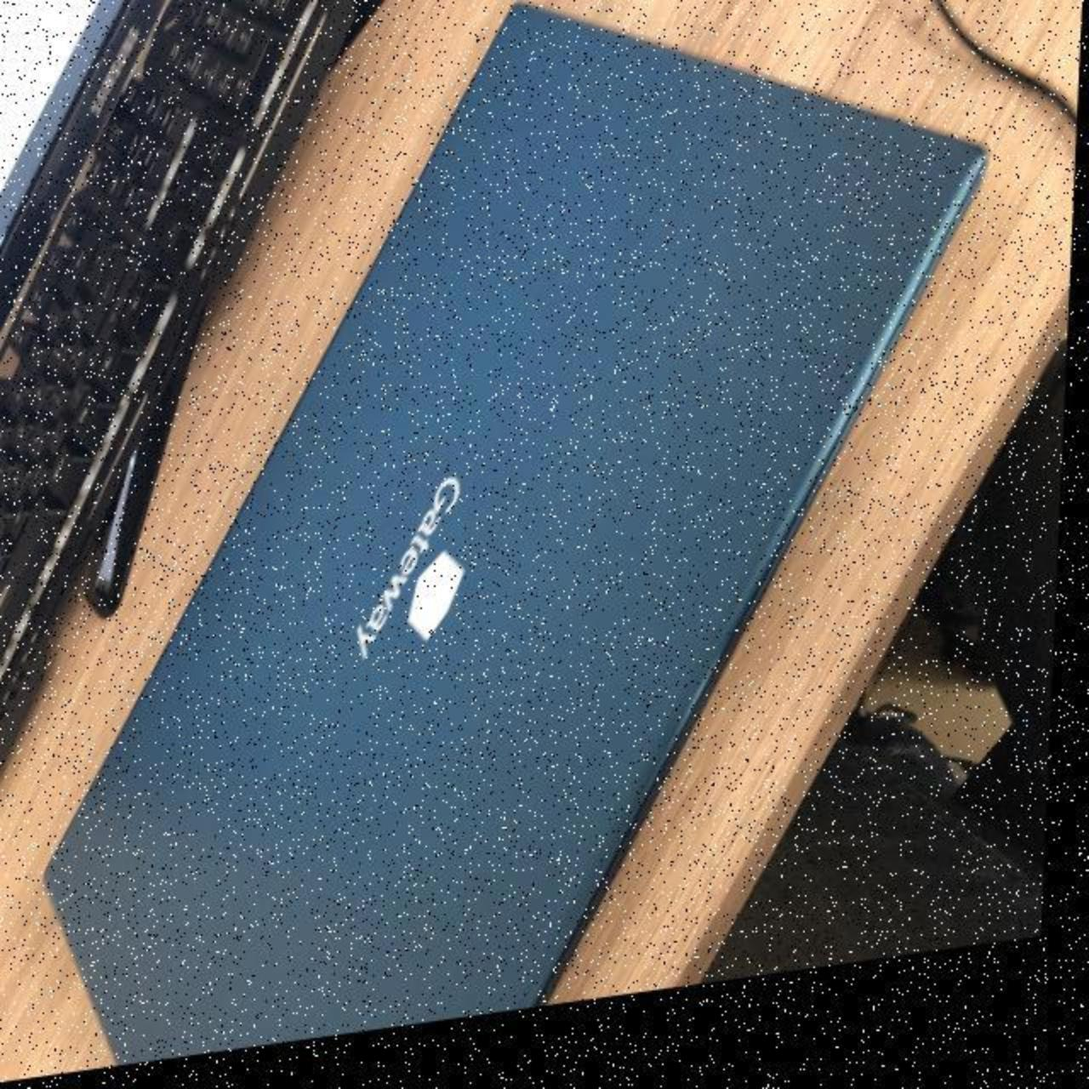laptop: (42, 1, 1000, 1081)
